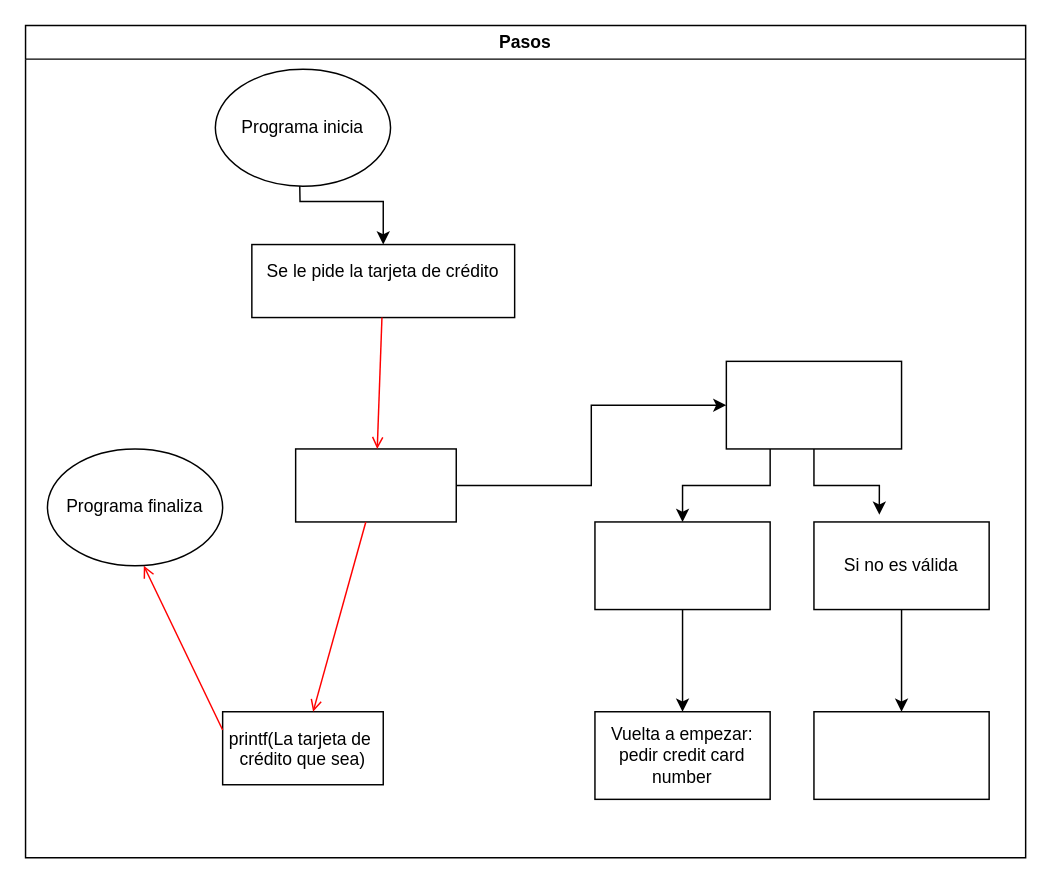
This 1051x883 diagram has some shape labels left out. The shapes that lost their labels are listed below. From the top down, each one's centre as x and y in pixels, then its label:
point 813,404: En caso de que no, dos casos:
point 375,484: Se verifica que sea válida
point 681,565: Se escriban guiones, letras o ceros a la izquierda
point 900,754: printf("INVALID")
